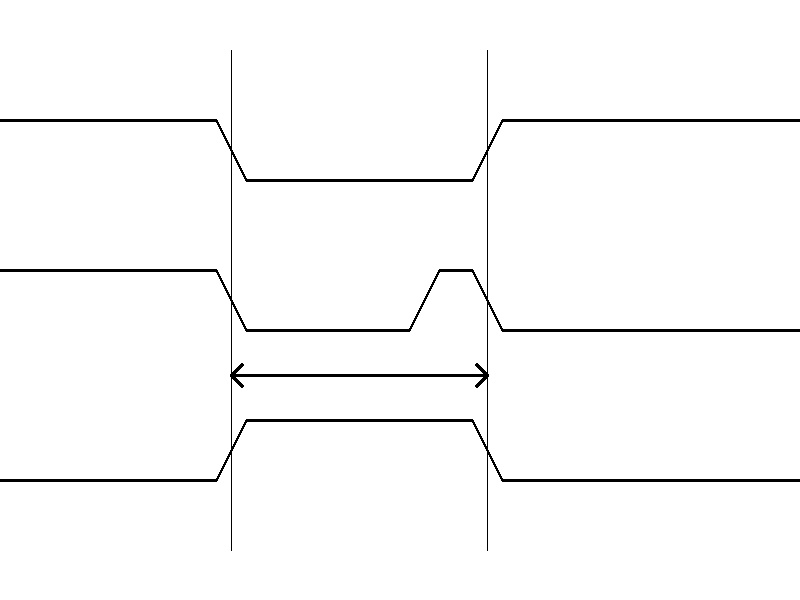double_arrow: (231, 360, 487, 390)
